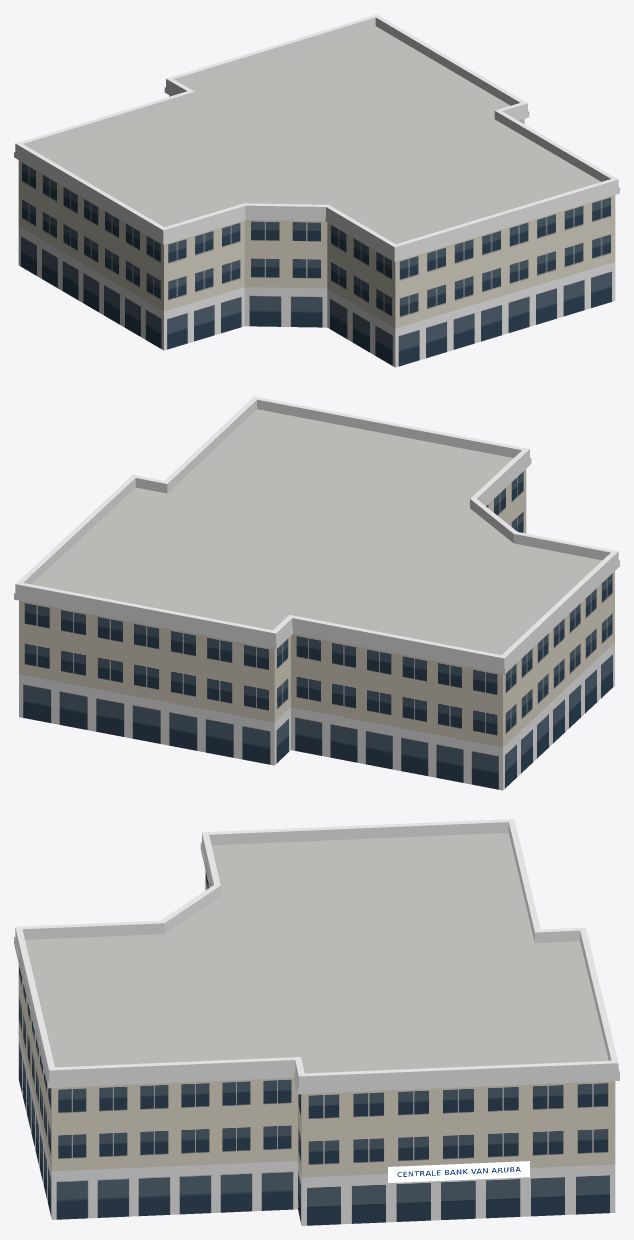
The model's file is central_bank_aruba.glb.
The picture shows the model from 3 angles, top to bottom: view 1: azimuth 30°, elevation 25°; view 2: azimuth 150°, elevation 25°; view 3: azimuth 270°, elevation 25°; orthographic projection. The views are drawn at different scales.
Parts seen in each view (by area): view 1: central_bank_aruba_lod0; view 2: central_bank_aruba_lod0; view 3: central_bank_aruba_lod0.
Part boxes in pixels (box(x1,y1,x2,y2)): central_bank_aruba_lod0: box(14, 14, 619, 367); central_bank_aruba_lod0: box(14, 396, 619, 790); central_bank_aruba_lod0: box(14, 819, 619, 1225).
Size of what is drawn, in the model's own units: 51.47 by 14 by 50.97.
5 materials, 3 textured.
